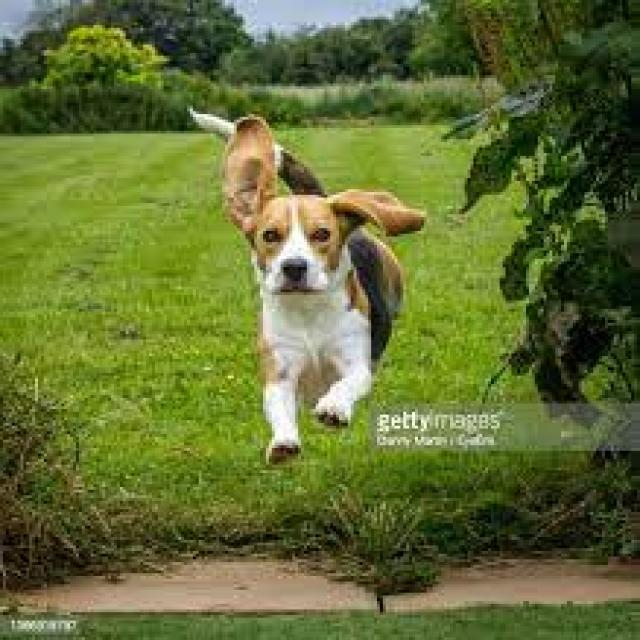Dog: (181, 97, 428, 469)
